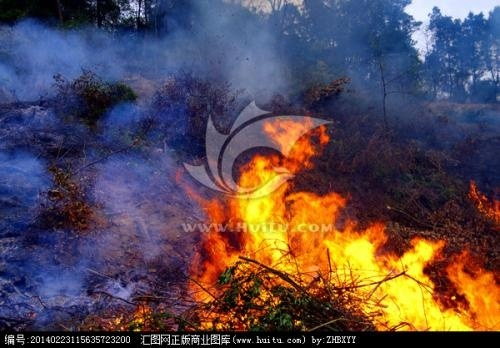fire: (188, 106, 496, 331), (108, 302, 152, 331)
